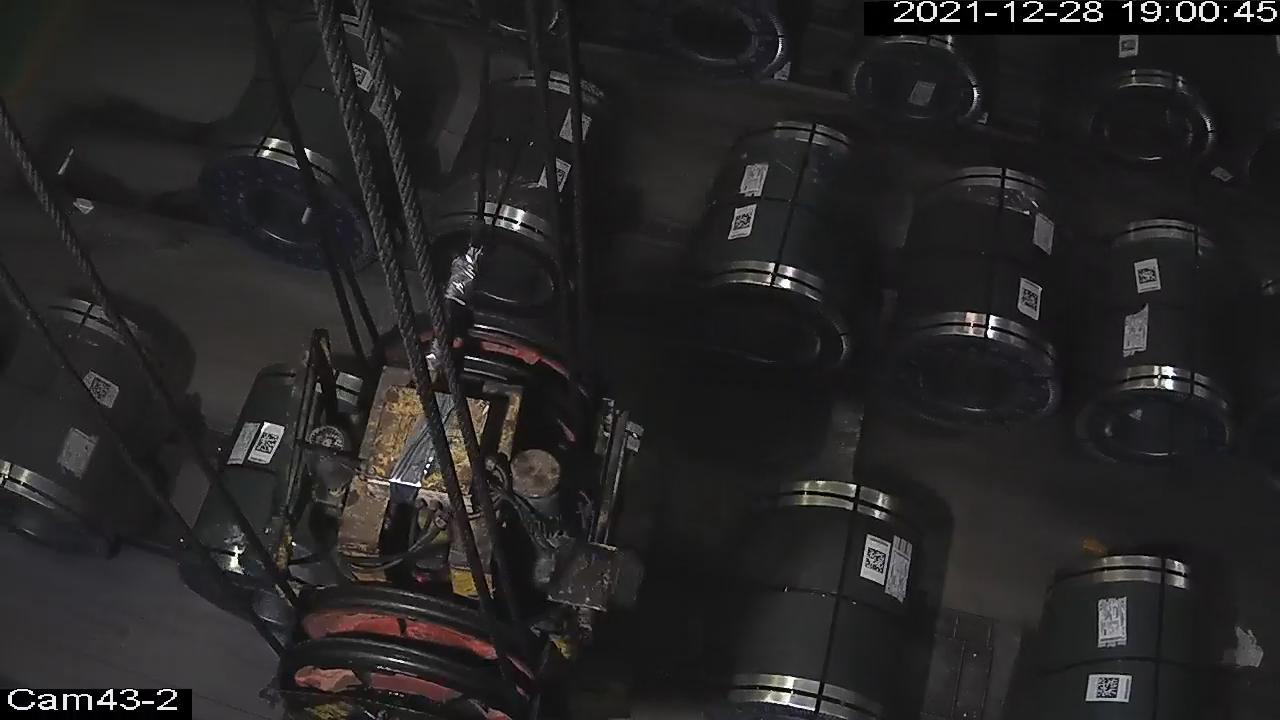data matrix: (861, 546, 891, 578), (1091, 673, 1123, 703), (87, 374, 116, 405), (253, 429, 283, 457), (1018, 284, 1042, 316), (1136, 264, 1161, 290), (731, 210, 757, 234)
